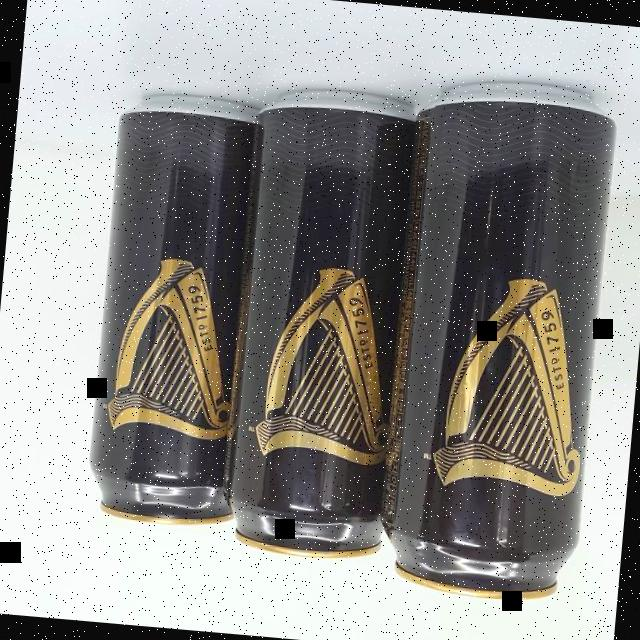can: (373, 73, 619, 606), (216, 84, 427, 564), (83, 89, 288, 532)
